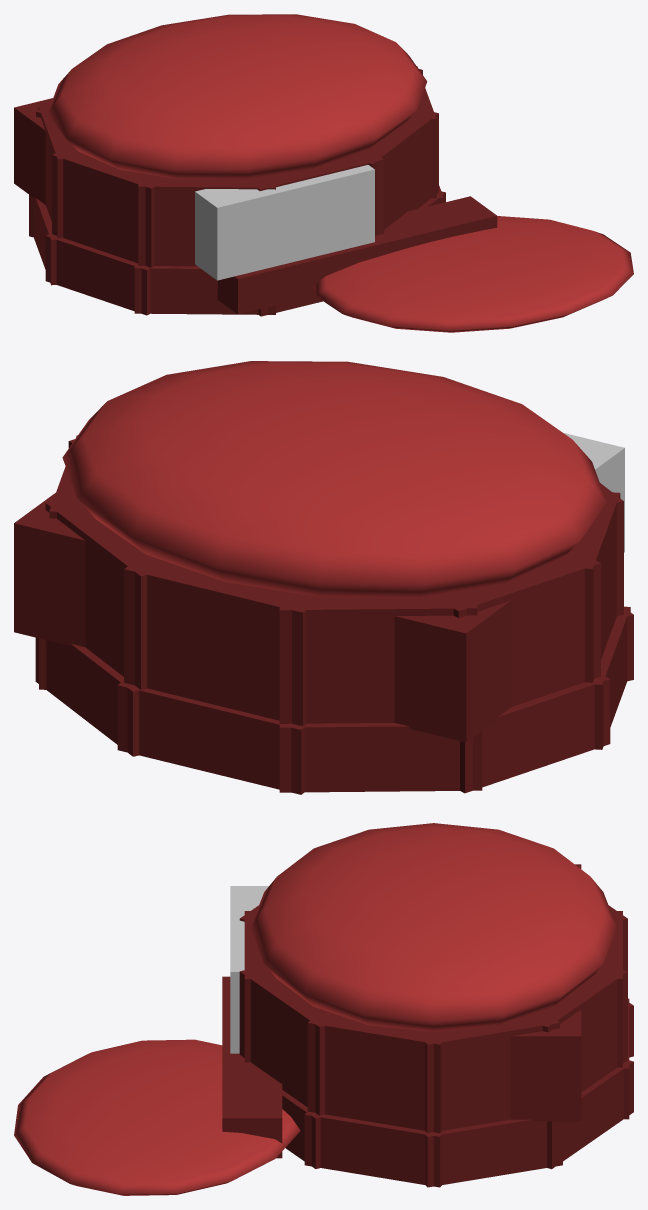
File: CMU3DAU14CivBallCapRedTruckerWorldCloud.glb
The picture shows the model from 3 angles, top to bottom: view 1: azimuth 30°, elevation 25°; view 2: azimuth 150°, elevation 25°; view 3: azimuth 270°, elevation 25°; orthographic projection. The views are drawn at different scales.
Parts seen in each view (by area): view 1: continuous shallow cap roof, broad projecting curved bill, source pale trucker front panel, bill sewn attachment, connected cap crown panels facet 05, connected cap crown panels facet 06, connected cap crown panels facet 08, open lower cap sweatband facet 05, open lower cap sweatband facet 06, source colored rear panel, connected cap crown panels facet 07, connected cap crown panels facet 04 (+2 smaller); view 2: continuous shallow cap roof, source colored rear panel, connected cap crown panels facet 02, connected cap crown panels facet 03, open lower cap sweatband facet 03, connected cap crown panels facet 04, open lower cap sweatband facet 02, open lower cap sweatband facet 04, connected cap crown panels facet 01, open lower cap sweatband facet 01, connected cap crown panels facet 05, open lower cap sweatband facet 05 (+3 smaller); view 3: continuous shallow cap roof, broad projecting curved bill, connected cap crown panels facet 09, connected cap crown panels facet 00, connected cap crown panels facet 08, source colored rear panel, open lower cap sweatband facet 09, open lower cap sweatband facet 00, connected cap crown panels facet 01, bill sewn attachment, open lower cap sweatband facet 01, source pale trucker front panel (+3 smaller).
Boxes of the visible parts, left/top/right/bottom form: continuous shallow cap roof: left=48, top=14, right=427, bottom=179; broad projecting curved bill: left=313, top=216, right=633, bottom=332; source pale trucker front panel: left=195, top=165, right=374, bottom=280; bill sewn attachment: left=217, top=196, right=497, bottom=314; connected cap crown panels facet 05: left=52, top=145, right=170, bottom=267; connected cap crown panels facet 06: left=138, top=173, right=276, bottom=266; connected cap crown panels facet 08: left=368, top=108, right=438, bottom=236; open lower cap sweatband facet 05: left=45, top=234, right=150, bottom=315; open lower cap sweatband facet 06: left=134, top=262, right=275, bottom=314; source colored rear panel: left=14, top=98, right=52, bottom=204; connected cap crown panels facet 07: left=248, top=148, right=384, bottom=235; connected cap crown panels facet 04: left=38, top=105, right=89, bottom=238; continuous shallow cap roof: left=62, top=361, right=606, bottom=597; source colored rear panel: left=14, top=493, right=511, bottom=742; connected cap crown panels facet 02: left=124, top=554, right=323, bottom=726; connected cap crown panels facet 03: left=279, top=589, right=477, bottom=723; open lower cap sweatband facet 03: left=279, top=721, right=482, bottom=792; connected cap crown panels facet 04: left=433, top=548, right=600, bottom=706; open lower cap sweatband facet 02: left=117, top=681, right=308, bottom=794; open lower cap sweatband facet 04: left=460, top=674, right=610, bottom=793; connected cap crown panels facet 01: left=45, top=501, right=180, bottom=689; open lower cap sweatband facet 01: left=35, top=637, right=139, bottom=756; connected cap crown panels facet 05: left=547, top=492, right=620, bottom=682; open lower cap sweatband facet 05: left=586, top=606, right=630, bottom=749; continuous shallow cap roof: left=250, top=823, right=617, bottom=1031; broad projecting curved bill: left=14, top=1039, right=300, bottom=1195; connected cap crown panels facet 09: left=307, top=1009, right=449, bottom=1133; connected cap crown panels facet 00: left=414, top=1010, right=559, bottom=1133; connected cap crown panels facet 08: left=239, top=966, right=349, bottom=1115; source colored rear panel: left=510, top=864, right=581, bottom=1121; open lower cap sweatband facet 09: left=304, top=1112, right=442, bottom=1187; open lower cap sweatband facet 00: left=423, top=1119, right=562, bottom=1187; connected cap crown panels facet 01: left=518, top=965, right=627, bottom=1092; bill sewn attachment: left=222, top=976, right=282, bottom=1158; open lower cap sweatband facet 01: left=547, top=1060, right=633, bottom=1169; source pale trucker front panel: left=230, top=886, right=268, bottom=1053.
Bounding box in the file's own units: 0.2864 × 0.113 × 0.3107.
